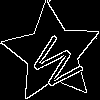W: (27, 28, 92, 94)
